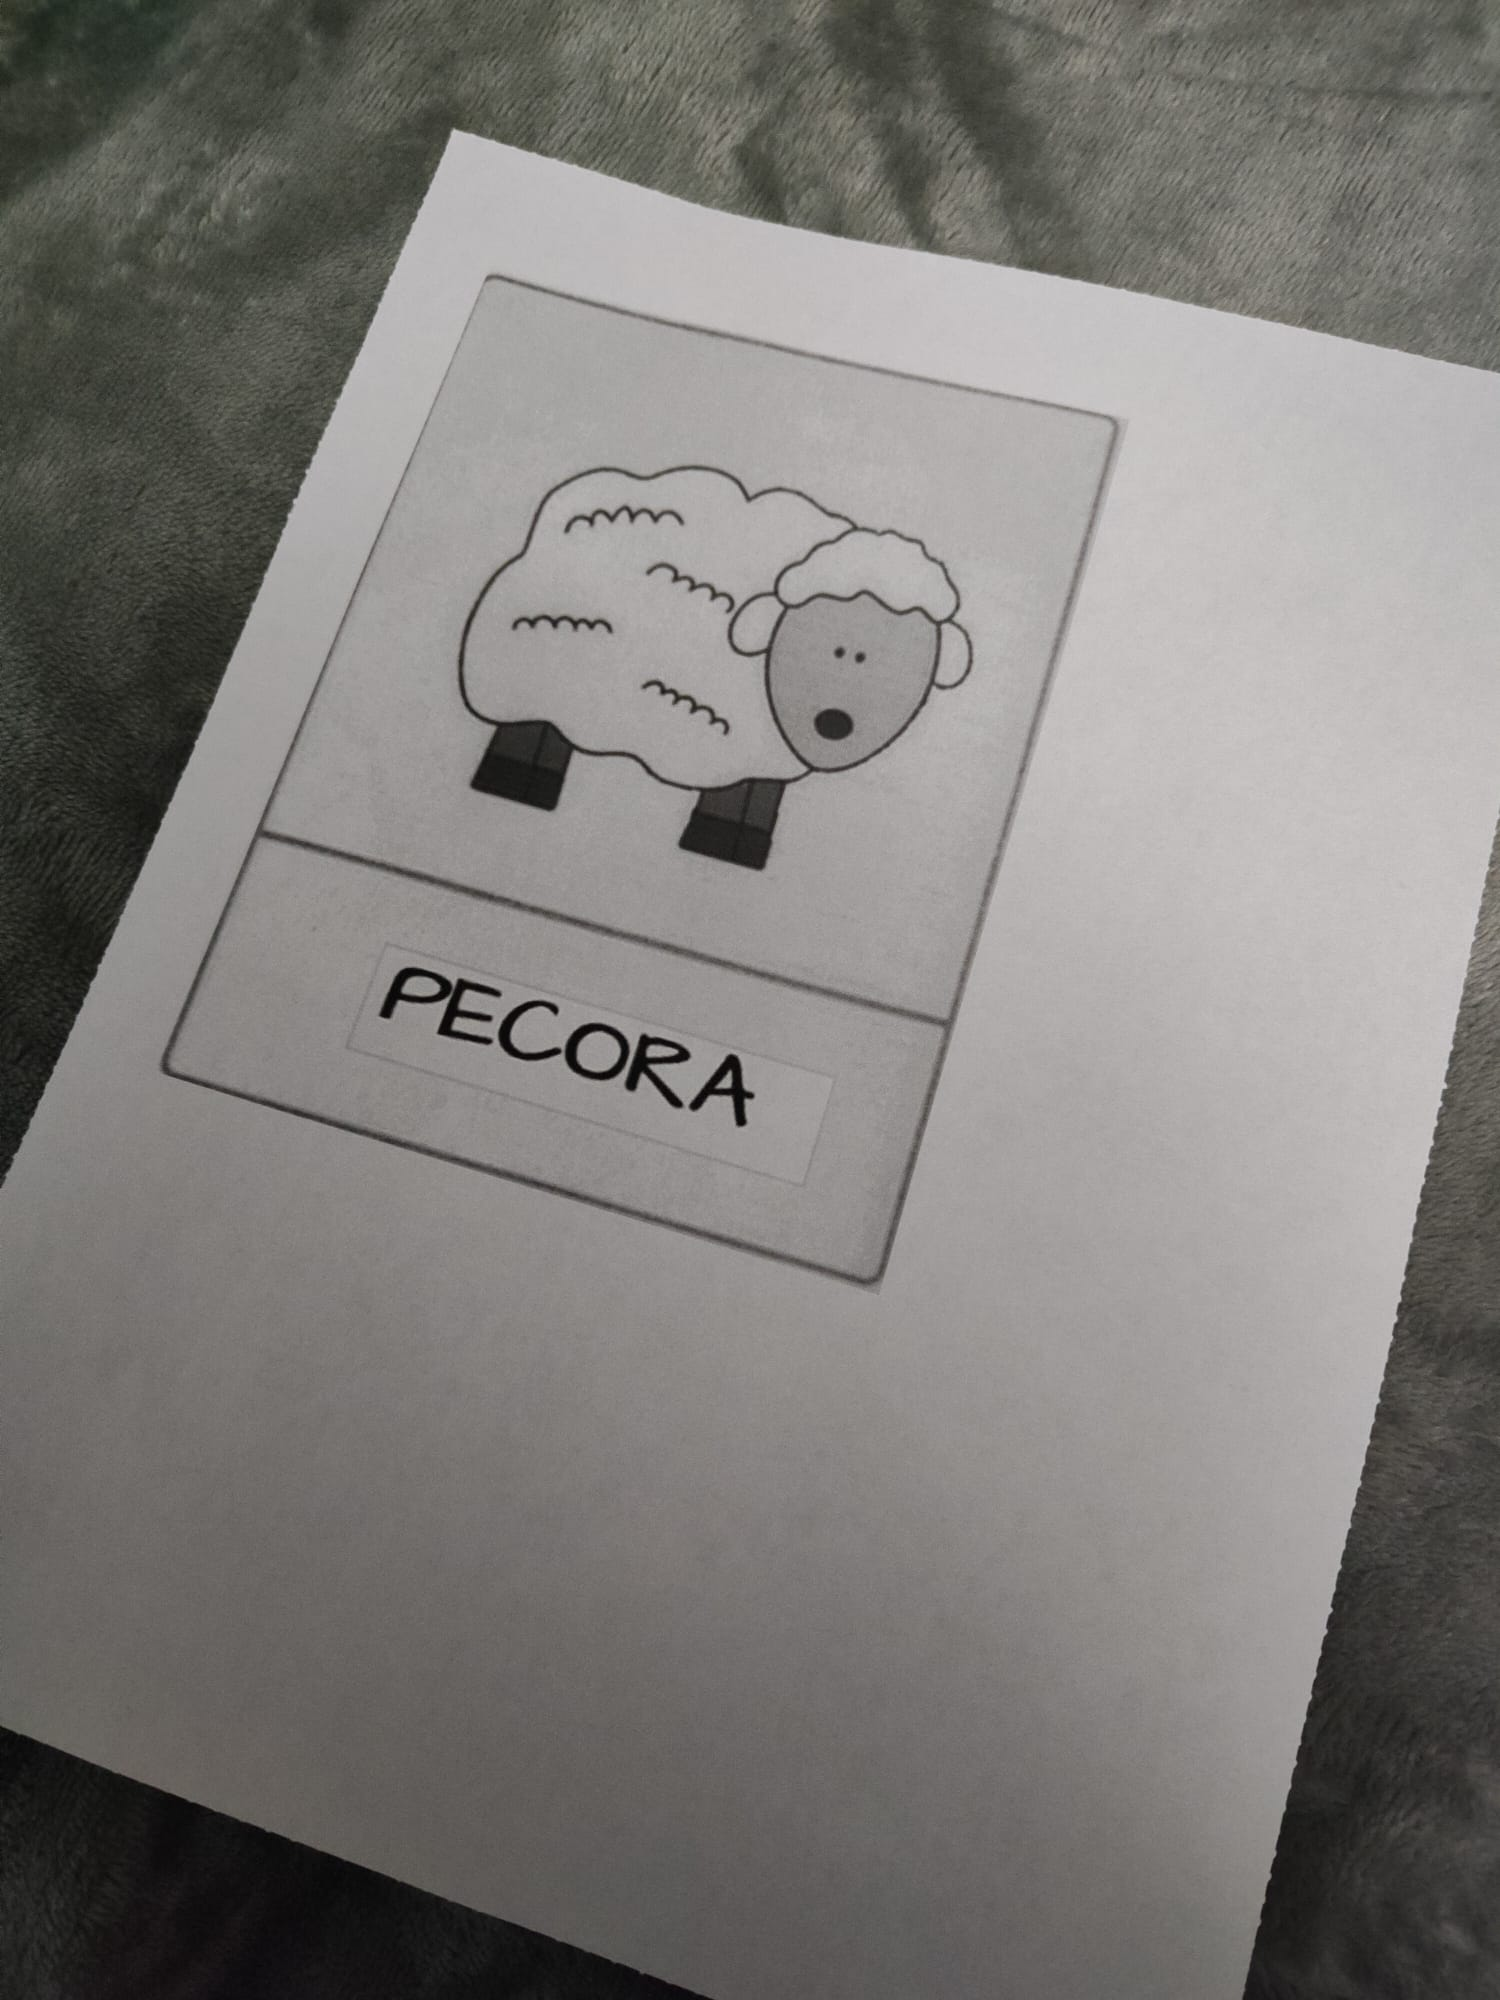pecora: (360, 260, 1021, 1237)
